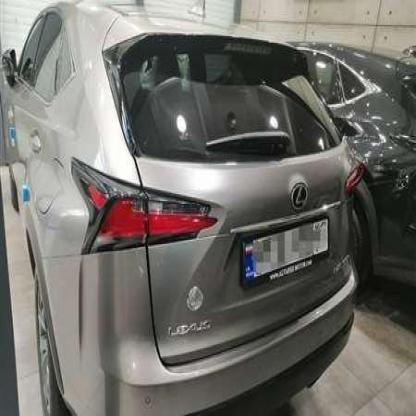Car: (0, 0, 351, 416), (261, 33, 416, 274)
